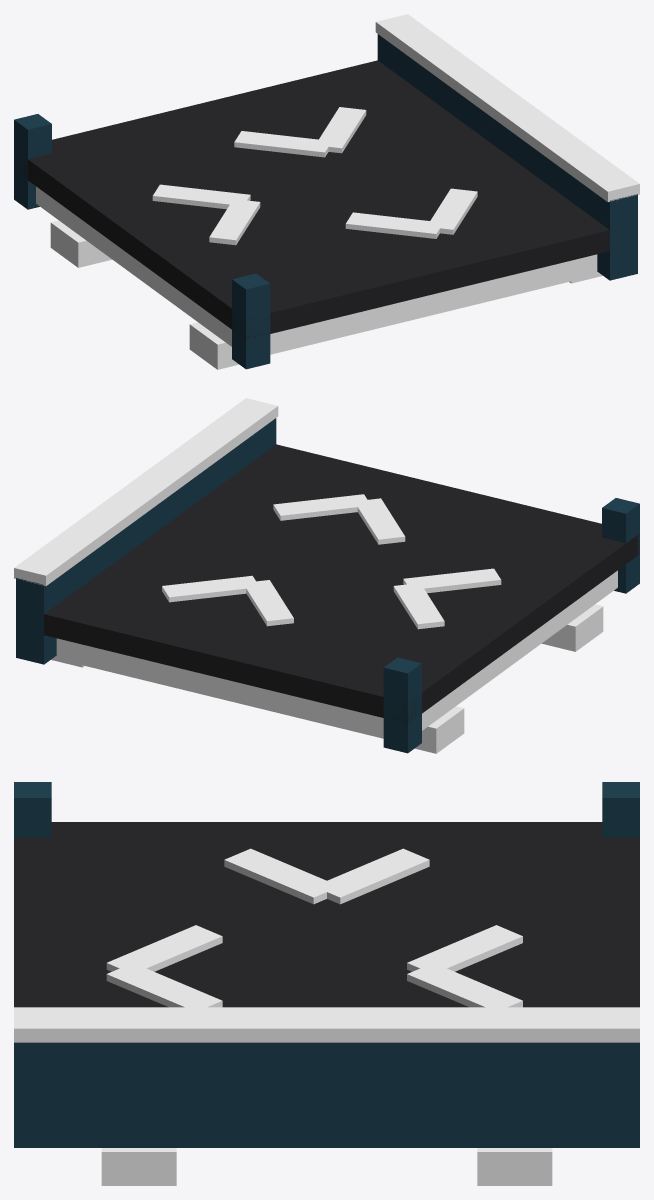
The model's file is belt_tee_r.obj.
The picture shows the model from 3 angles, top to bottom: view 1: azimuth 30°, elevation 25°; view 2: azimuth 150°, elevation 25°; view 3: azimuth 270°, elevation 25°; orthographic projection. The views are drawn at different scales.
Parts seen in each view (by area): view 1: Belt; view 2: Belt; view 3: Belt.
Part boxes in pixels (x1,y1,x2,y2): Belt: (14,14,639,369); Belt: (14,398,639,753); Belt: (14,782,639,1185).
Size of the model in its own units: 0.99 by 0.2725 by 1.
